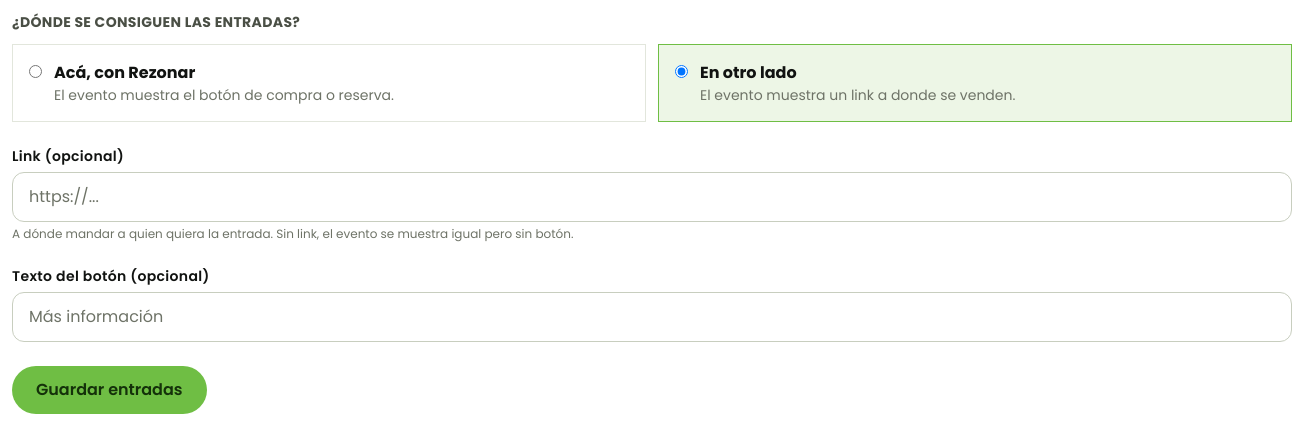
Scenario: PanelEntradas › guardar el link › no toca la venta interna si nunca estuvo prendida
Click the button "Guardar entradas": (109, 390) [12,366,206,414]
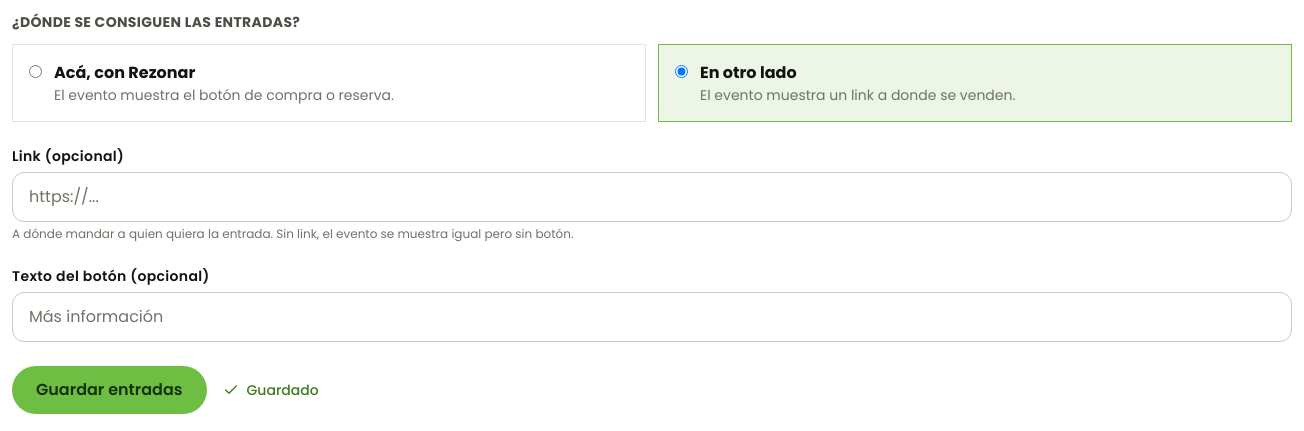
Expected: the text "Guardado" is shown, [222,380,319,400]
